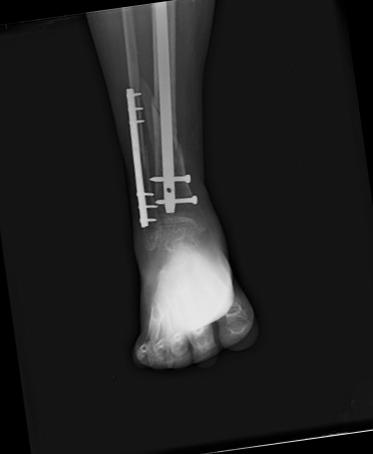fractured: (137, 76, 184, 171), (136, 128, 150, 190)
